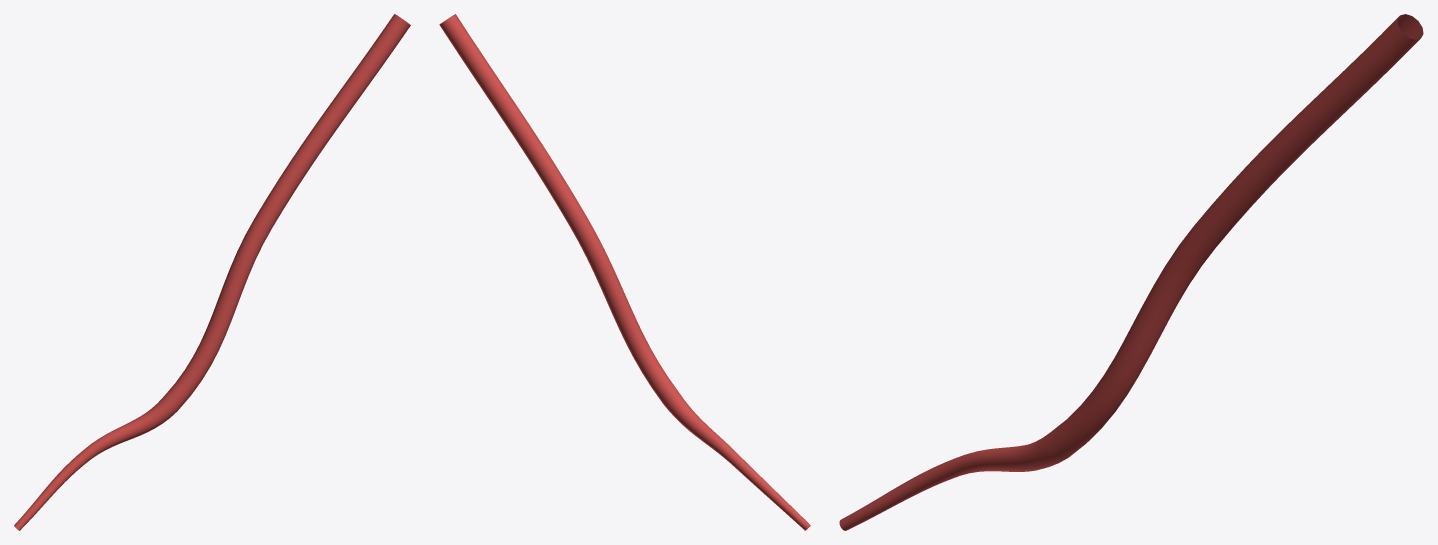
3 views of the same model, side by side, from view 1: azimuth 30°, elevation 25°; view 2: azimuth 150°, elevation 25°; view 3: azimuth 330°, elevation 25° (orthographic). The views are drawn at different scales.
Visible parts, largest first — view 1: 左侧上唇动脉; view 2: 左侧上唇动脉; view 3: 左侧上唇动脉.
Part boxes in pixels (x1,y1,x2,y2): 左侧上唇动脉: (14,14,410,530); 左侧上唇动脉: (439,14,810,530); 左侧上唇动脉: (839,14,1423,530).
Size of the model in its own units: 0.0323 by 0.0345 by 0.00274.
